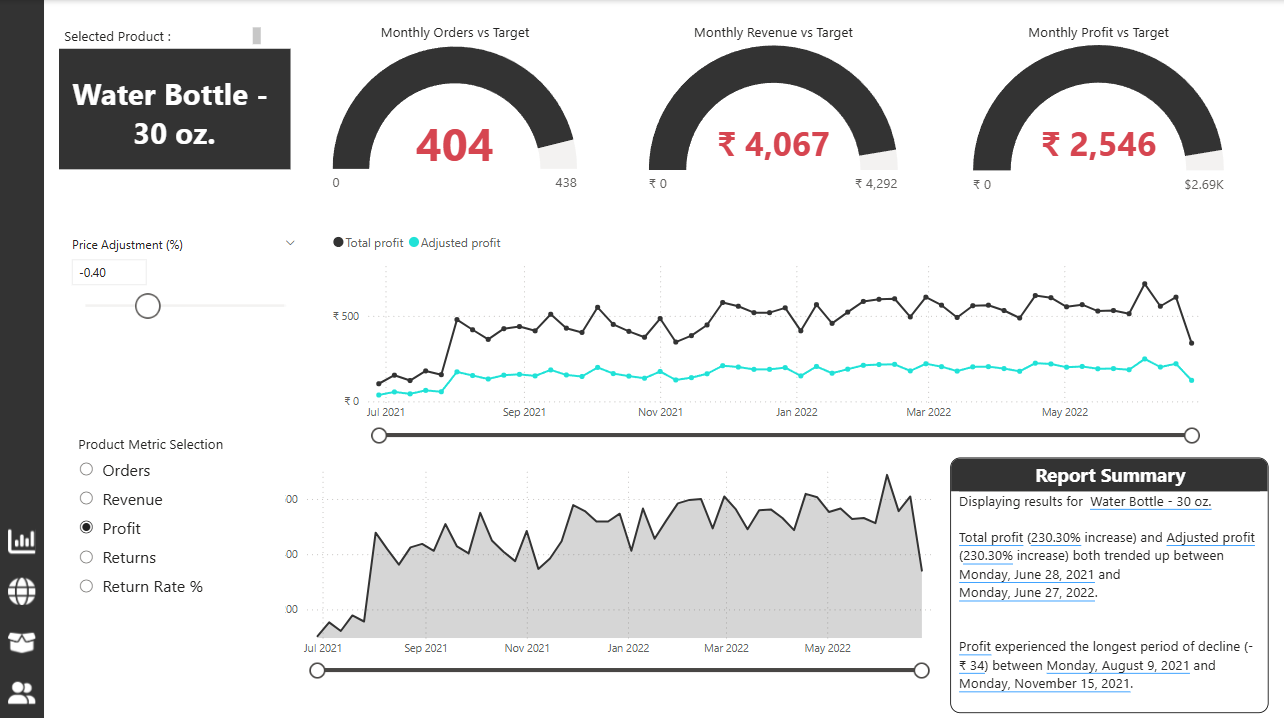

Layout of this report page (visuals, bound fields, positions):
{"tool":"powerbi","page":{"name":"Product Detail","canvas":[1280,720],"ordinal":2},"visuals":[{"type":"shape","box":[0,0,45,720],"z":0},{"type":"actionButton","box":[4.4,518.9,35.6,40],"z":0,"group":"g1"},{"type":"gauge","title":"Monthly Orders vs Target ","fields":{"MaxValue":["Measure Table.Order Target"],"Y":["Measure Table.Total Orders"]},"box":[327,22.2,253.3,180],"z":1000},{"type":"actionButton","box":[4.4,619.6,35.6,40],"z":1000,"group":"g1"},{"type":"gauge","title":"Monthly Revenue vs Target ","fields":{"MaxValue":["Measure Table.Target Revenue"],"Y":["Measure Table.Total Revenue"]},"box":[641.9,22.2,257.8,180],"z":2000},{"type":"actionButton","box":[4.4,670,35.6,40],"z":2000,"group":"g1"},{"type":"gauge","title":"Monthly Profit vs Target ","fields":{"MaxValue":["Measure Table.Profit Target"],"Y":["Measure Table.Total profit"]},"box":[961.1,22.2,265.6,180],"z":3000},{"type":"actionButton","box":[4.4,569.3,35.6,40],"z":3000,"group":"g1"},{"type":"lineChart","title":"Profit Trending","fields":{"Category":["Calendar Lookup.Date Hierarchy.Start of Year","Calendar Lookup.Date Hierarchy.Start of Month","Calendar Lookup.Date Hierarchy.Start of Quarter","Calendar Lookup.Date Hierarchy.Start of Week","Calendar Lookup.Date Hierarchy.Date"],"Y":["Measure Table.Total profit","Measure Table.Adjusted profit"]},"box":[326.7,221.1,888.9,222.2],"z":4000},{"type":"areaChart","title":"Return","fields":{"Category":["Calendar Lookup.Date Hierarchy.Start of Year","Calendar Lookup.Date Hierarchy.Start of Month","Calendar Lookup.Date Hierarchy.Start of Quarter","Calendar Lookup.Date Hierarchy.Start of Week","Calendar Lookup.Date Hierarchy.Date"],"Y":["Measure Table.Total profit"]},"box":[265.7,455.7,681.4,222.9],"z":5000},{"type":"card","fields":{"Values":["Min(Product Lookup.ProductName)"]},"box":[60,48.9,230,120],"z":6000},{"type":"textbox","box":[60,22.2,205.6,26.7],"z":7000},{"type":"group","id":"g1","title":"Navigation Buttons","box":[4.4,518.9,35.6,191.1],"z":8000},{"type":"slicer","fields":{"Values":["Price Adjustment (%).Price Adjustment (%)"]},"box":[60,230,247.8,146.7],"z":9000},{"type":"slicer","fields":{"Values":["Product Metric Selection.Product Metric Selection"]},"box":[65.6,427.8,218.9,222.2],"z":10000},{"type":"textbox","title":"Report Summary","box":[947.1,455.7,317.1,254.3],"z":11000}]}

Visuals, with their boxes on the page's 1280x720 design canvas (x1, y1, x2, y2). These are canvas units, not pixel positions in the 1284x718 screenshot, which may show the page scaled, cropped or inside an application window:
shape: (0,0,45,720)
actionButton: (4,519,40,559)
"Monthly Orders vs Target " gauge: (327,22,580,202)
actionButton: (4,620,40,660)
"Monthly Revenue vs Target " gauge: (642,22,900,202)
actionButton: (4,670,40,710)
"Monthly Profit vs Target " gauge: (961,22,1227,202)
actionButton: (4,569,40,609)
"Profit Trending" lineChart: (327,221,1216,443)
"Return" areaChart: (266,456,947,679)
card - Min(Product Lookup.ProductName): (60,49,290,169)
textbox: (60,22,266,49)
"Navigation Buttons" group: (4,519,40,710)
slicer - Price Adjustment (%).Price Adjustment (%): (60,230,308,377)
slicer - Product Metric Selection.Product Metric Selection: (66,428,284,650)
"Report Summary" textbox: (947,456,1264,710)
